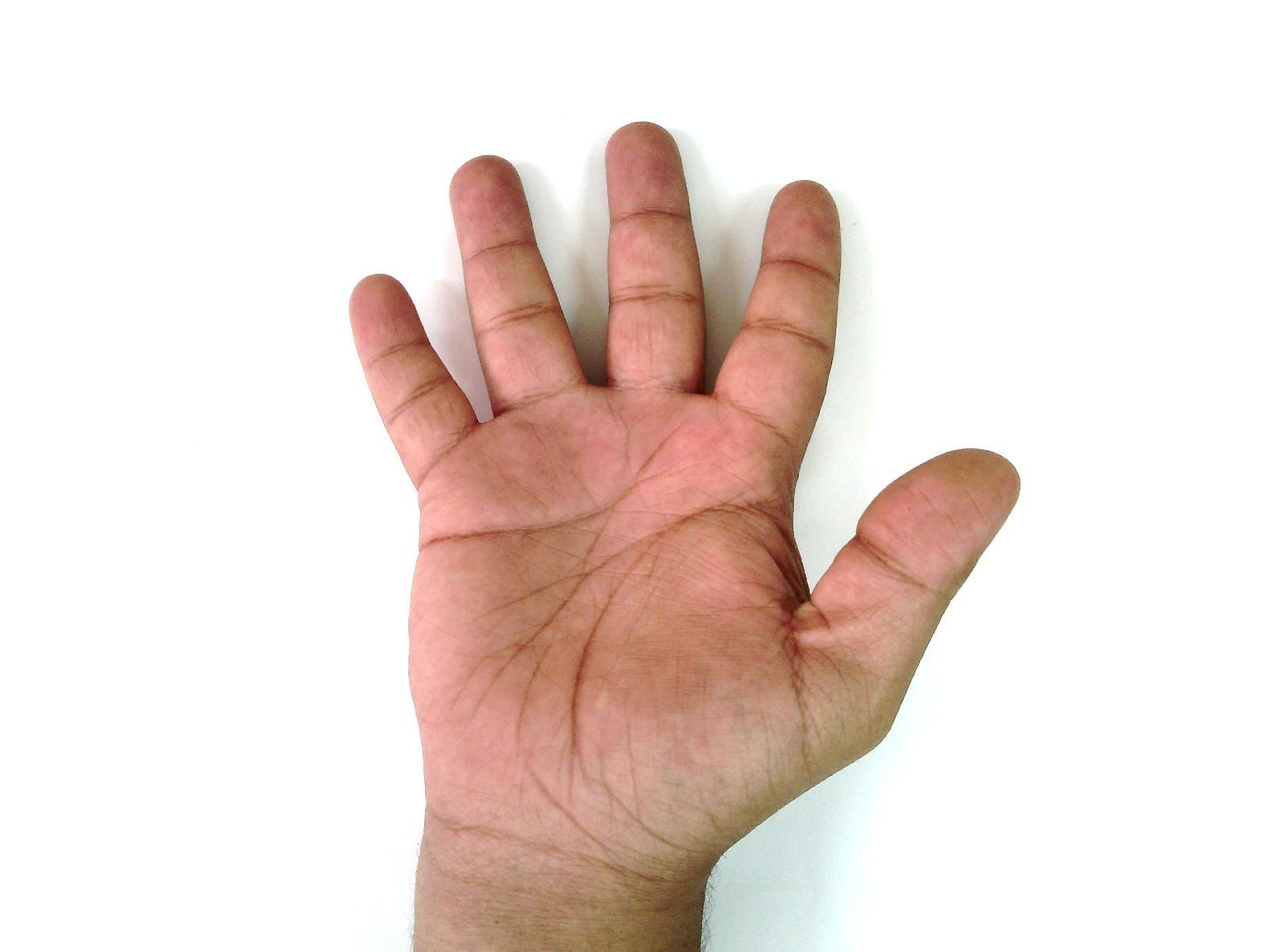open_palm: (345, 121, 1023, 888)
